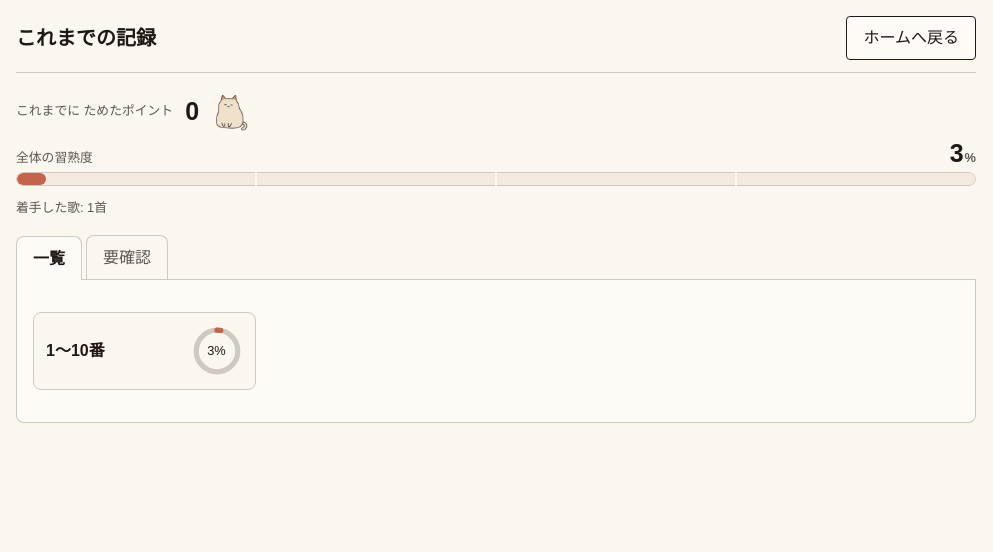
Scenario: history: 押せる行に左右の余白を足さない
Click the button with class "history-group" at (144, 351), box [33,312,256,390]
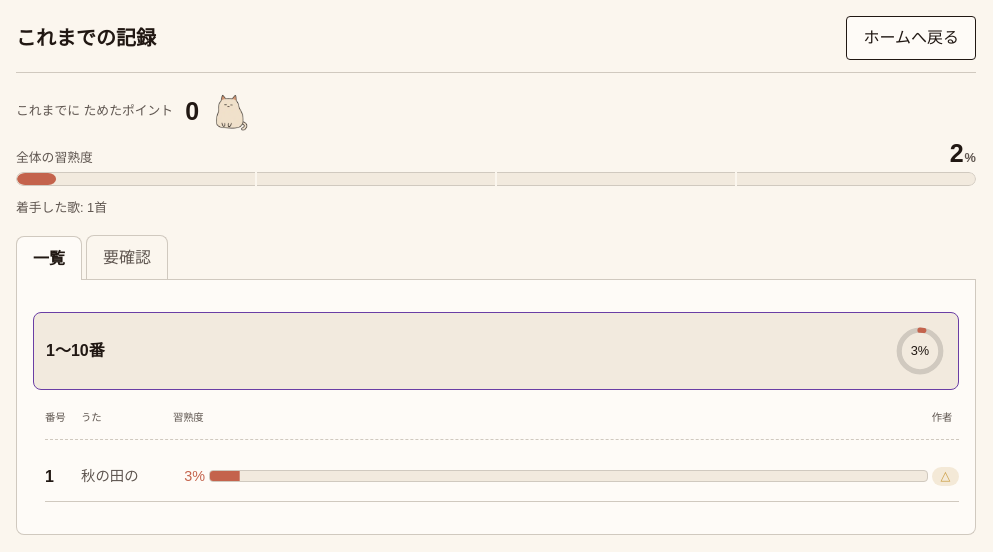
Expected: the button with class "history-entry__open" is shown, [45,452,959,501]
